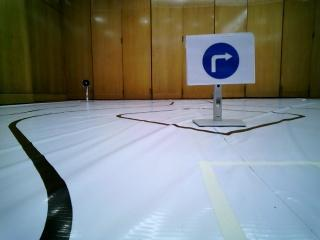right: (185, 32, 256, 79)
